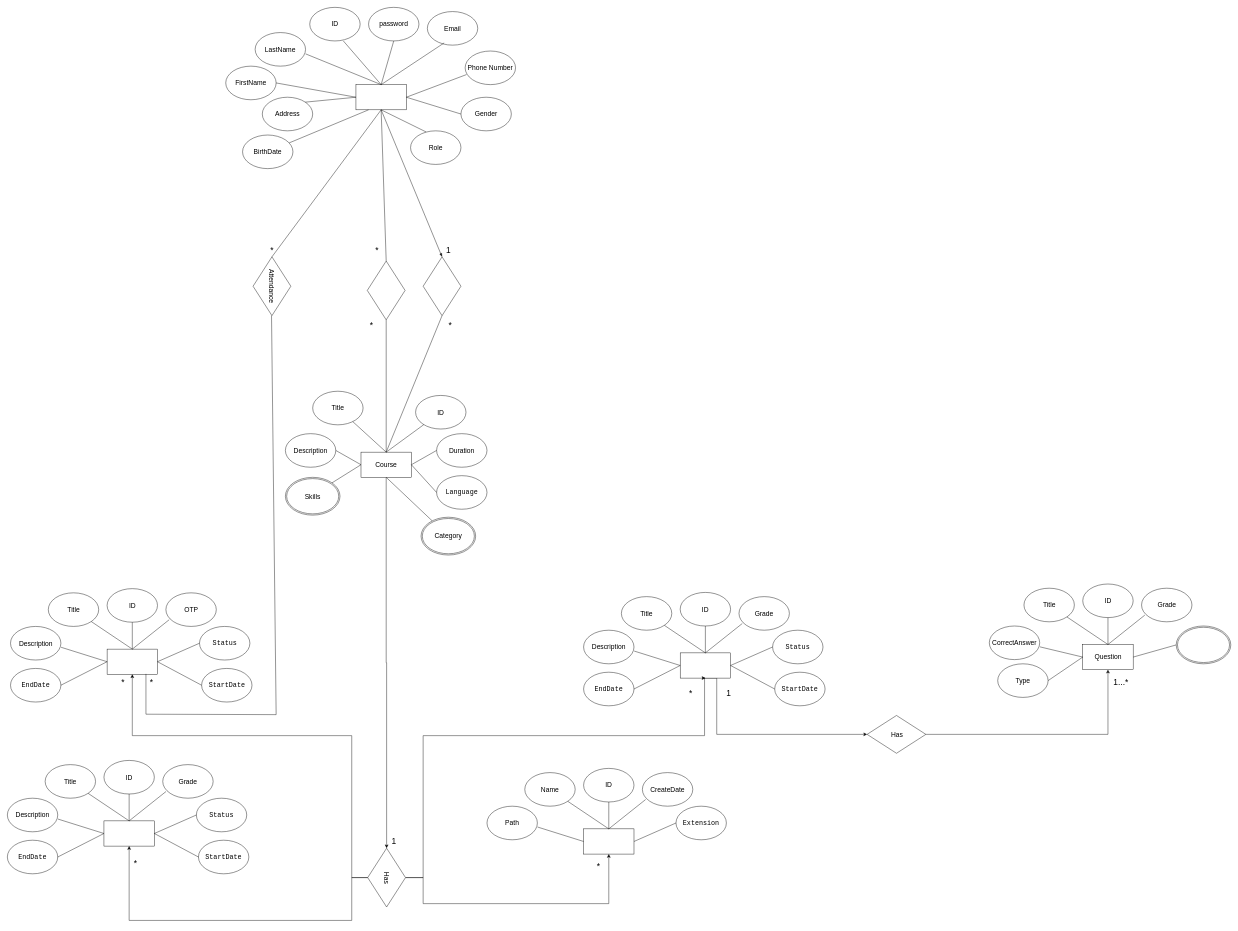
Image size: 1238x931. Some labels were removed from this diagram. The centre of each missing label's shape, as x and y in pixels:
"Answers" goes at (x=1203, y=645).
"Assignment" goes at (x=129, y=833).
"Enrollment" goes at (x=386, y=290).
"Lesson" goes at (x=132, y=661).
"mediaFile" goes at (x=608, y=841).
"Quiz" goes at (x=705, y=665).
"Teaching" goes at (x=442, y=286).
"User" goes at (x=381, y=97).
